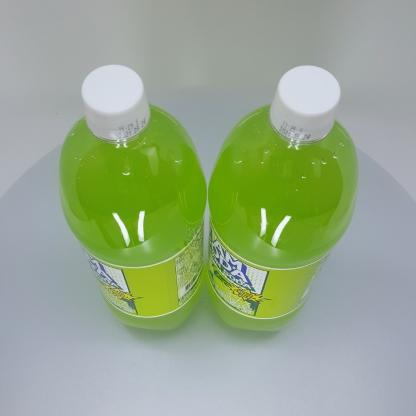-----------: (205, 65, 359, 331), (58, 64, 207, 331)
